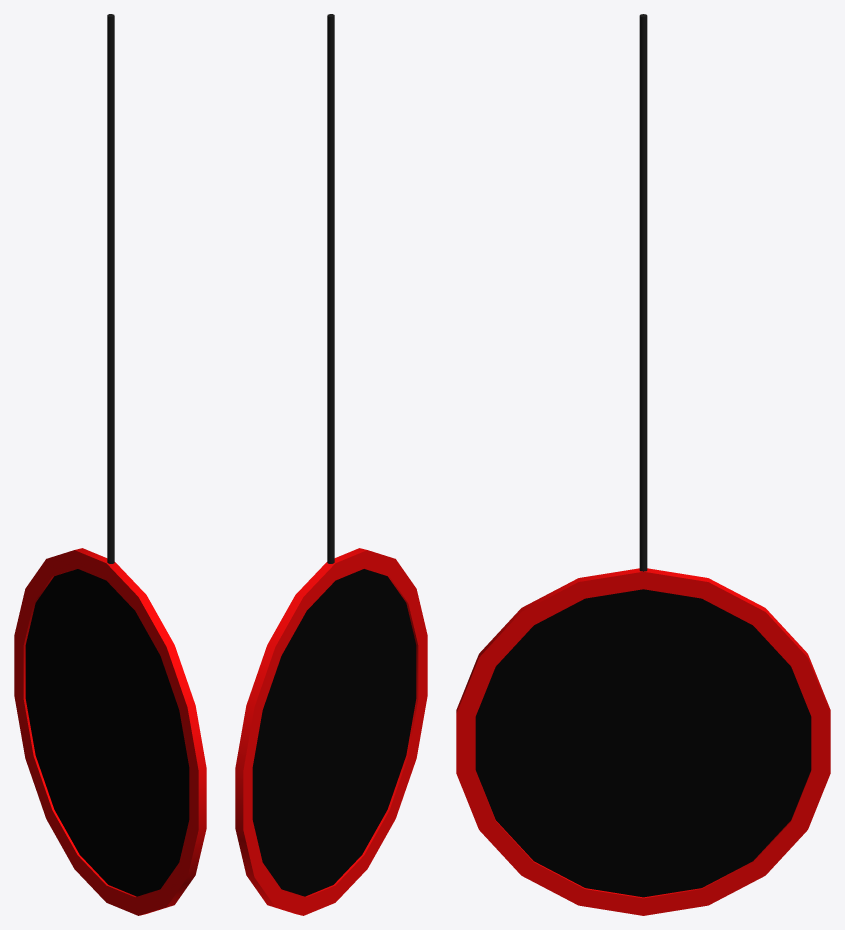
File: meiyouxiansu.obj
3 views of the same model, side by side, from view 1: azimuth 30°, elevation 25°; view 2: azimuth 150°, elevation 25°; view 3: azimuth 270°, elevation 25° (orthographic).
Visible parts, largest first — view 1: tongxing01; view 2: tongxing01; view 3: tongxing01.
Part boxes in pixels (x1,y1,x2,y2): tongxing01: (14,14,206,915); tongxing01: (235,14,427,915); tongxing01: (456,14,830,915).
Size of the model in its own units: 20 by 2081 by 785.
